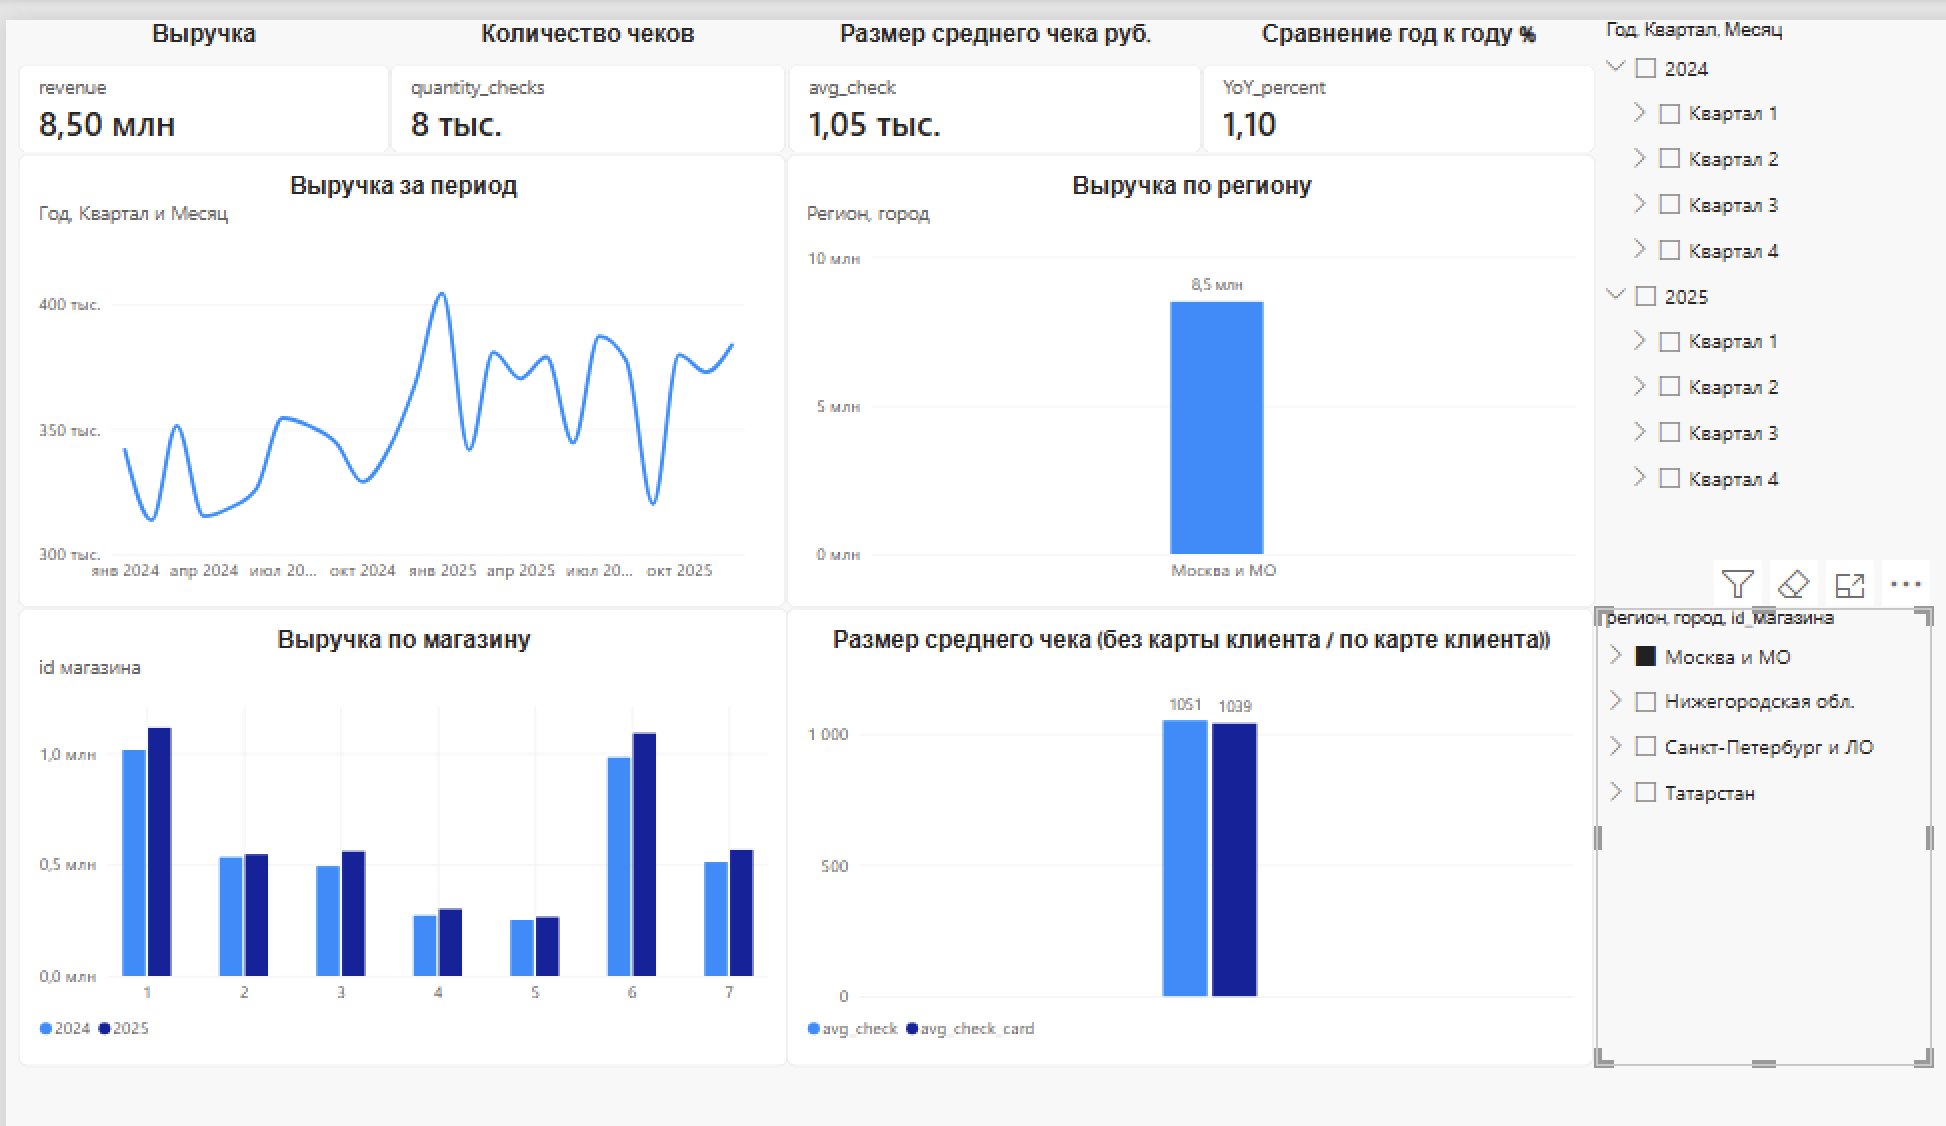

The dashboard page shown, as its layout file describes it:
{"tool":"powerbi","page":{"name":"Sales Sosedushka","canvas":[1920,1080],"ordinal":0},"visuals":[{"type":"cardVisual","title":"Выручка","fields":{"Data":["fact_sales.revenue"]},"box":[10,0,310,111.7],"z":0},{"type":"cardVisual","title":"Количество чеков","fields":{"Data":["fact_sales.quantity_checks"]},"box":[320,0,330,111.7],"z":1},{"type":"cardVisual","title":"Размер среднего чека руб.","fields":{"Data":["fact_sales.avg_check"]},"box":[651.7,0,345,111.7],"z":2},{"type":"cardVisual","title":"Сравнение год к году %","fields":{"Data":["fact_sales.YoY_percent"]},"box":[996.7,0,328.3,111.7],"z":3},{"type":"lineChart","title":"Выручка за период","fields":{"Category":["fact_sales.дата_время.Изменение.Иерархия дат.Год","fact_sales.дата_время.Изменение.Иерархия дат.Квартал","fact_sales.дата_время.Изменение.Иерархия дат.Месяц"],"Y":["fact_sales.revenue"]},"box":[10,111.7,640,378.3],"z":4},{"type":"clusteredColumnChart","title":"Выручка по магазину","fields":{"Category":["fact_sales.id_магазина"],"Series":["fact_sales.дата_время.Изменение.Иерархия дат.Год"],"Y":["fact_sales.revenue"]},"box":[10,490,641.7,381.7],"z":5},{"type":"clusteredColumnChart","title":"Размер среднего чека (без карты клиента / по карте клиента))","fields":{"Y":["fact_sales.avg_check","fact_sales.avg_check_card"]},"box":[650,490,673.3,381.7],"z":6},{"type":"clusteredColumnChart","title":"Выручка по региону","fields":{"Category":["dim_stores.регион","dim_stores.город"],"Y":["fact_sales.revenue"]},"box":[650,111.7,675,378.3],"z":7},{"type":"slicer","fields":{"Values":["dim_stores.регион","dim_stores.город","dim_stores.id_магазина"]},"box":[1325,490,280,381.7],"z":8},{"type":"slicer","fields":{"Values":["fact_sales.дата_время.Изменение.Иерархия дат.Год","fact_sales.дата_время.Изменение.Иерархия дат.Квартал","fact_sales.дата_время.Изменение.Иерархия дат.Месяц"]},"box":[1325,0,280,456.7],"z":9}]}

Visuals, with their boxes on the page's 1920x1080 design canvas (x1, y1, x2, y2). These are canvas units, not pixel positions in the 1946x1126 screenshot, which may show the page scaled, cropped or inside an application window:
"Выручка" cardVisual: l=10, t=0, r=320, b=112
"Количество чеков" cardVisual: l=320, t=0, r=650, b=112
"Размер среднего чека руб." cardVisual: l=652, t=0, r=997, b=112
"Сравнение год к году %" cardVisual: l=997, t=0, r=1325, b=112
"Выручка за период" lineChart: l=10, t=112, r=650, b=490
"Выручка по магазину" clusteredColumnChart: l=10, t=490, r=652, b=872
"Размер среднего чека (без карты клиента / по карте клиента))" clusteredColumnChart: l=650, t=490, r=1323, b=872
"Выручка по региону" clusteredColumnChart: l=650, t=112, r=1325, b=490
slicer - dim_stores.регион x dim_stores.город: l=1325, t=490, r=1605, b=872
slicer - fact_sales.дата_время.Изменение.Иерархия дат.Год x fact_sales.дата_время.Изменение.Иерархия дат.Квартал: l=1325, t=0, r=1605, b=457
